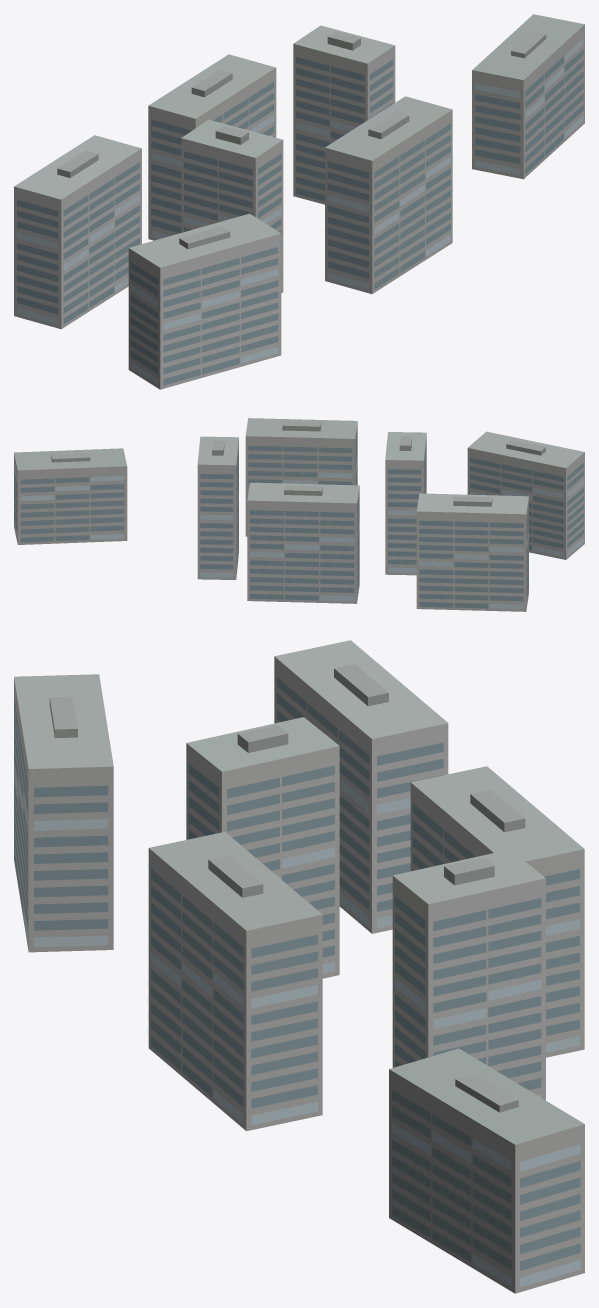
File: apt-a13672102.glb
3 views of the same model, one above another, from view 1: azimuth 30°, elevation 25°; view 2: azimuth 150°, elevation 25°; view 3: azimuth 270°, elevation 25° (orthographic). The views are drawn at different scales.
Visible parts, largest first — view 1: apt-a13672102; view 2: apt-a13672102; view 3: apt-a13672102.
Part boxes in pixels (<box>): apt-a13672102: <box>14,14,584,389</box>; apt-a13672102: <box>14,418,584,611</box>; apt-a13672102: <box>14,640,584,1293</box>.
Bounding box in the file's own units: 164 × 40 × 86.28.
